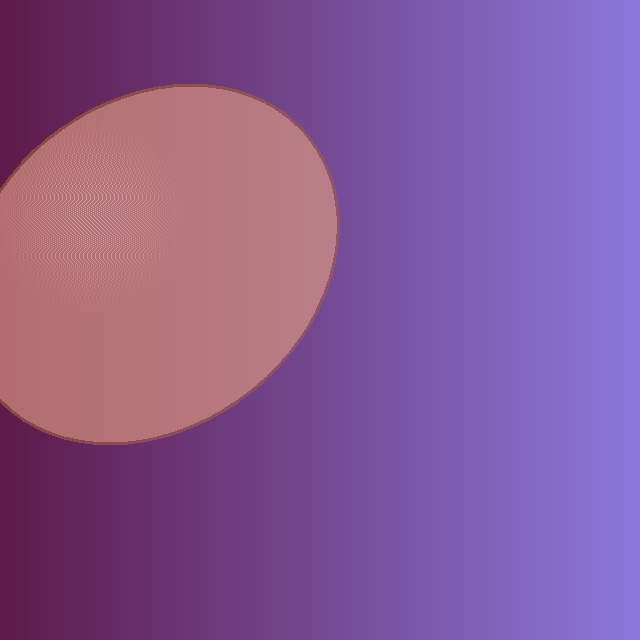lens: (0, 85, 338, 443)
